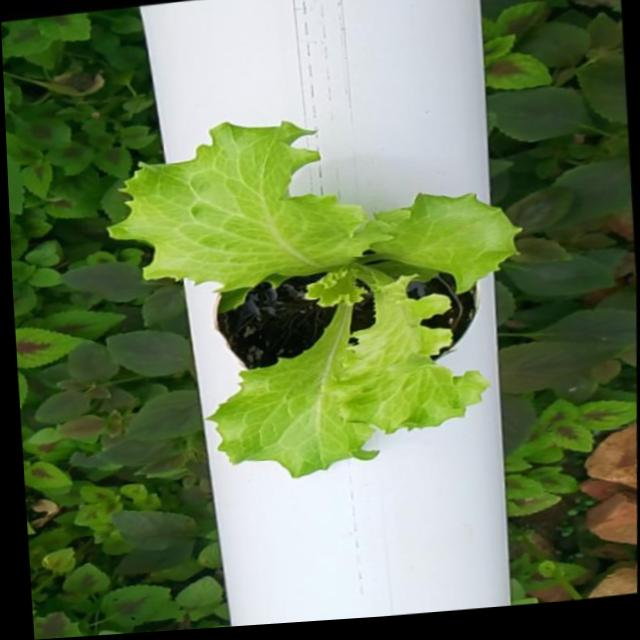Baby: (135, 119, 548, 476)
